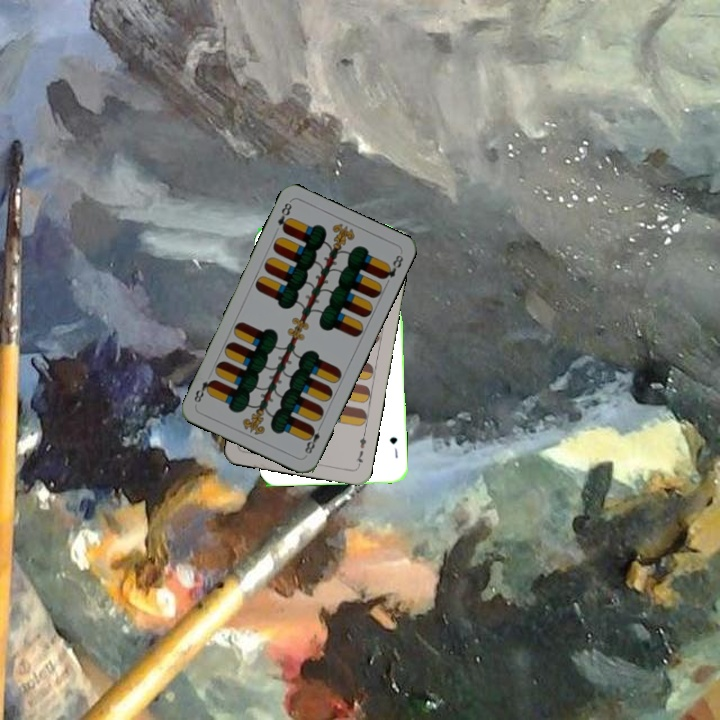E7: (352, 429, 369, 469)
E8: (300, 420, 325, 457), (273, 198, 295, 235)
GU: (385, 433, 400, 460)
